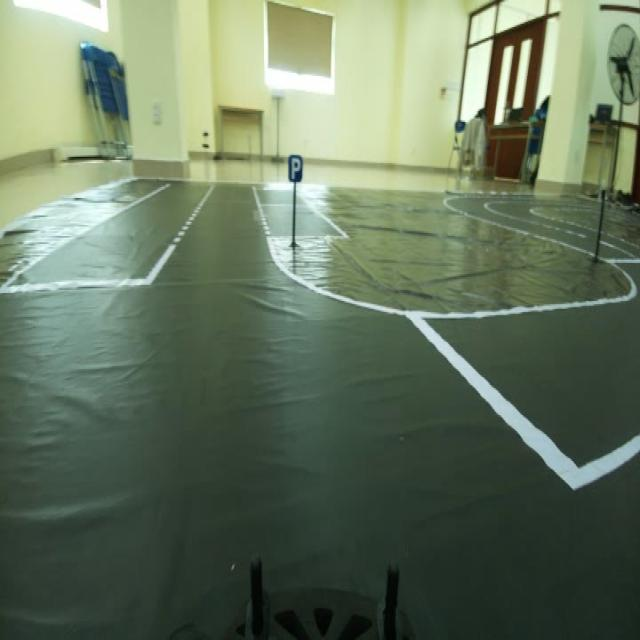parking: (280, 140, 310, 190)
